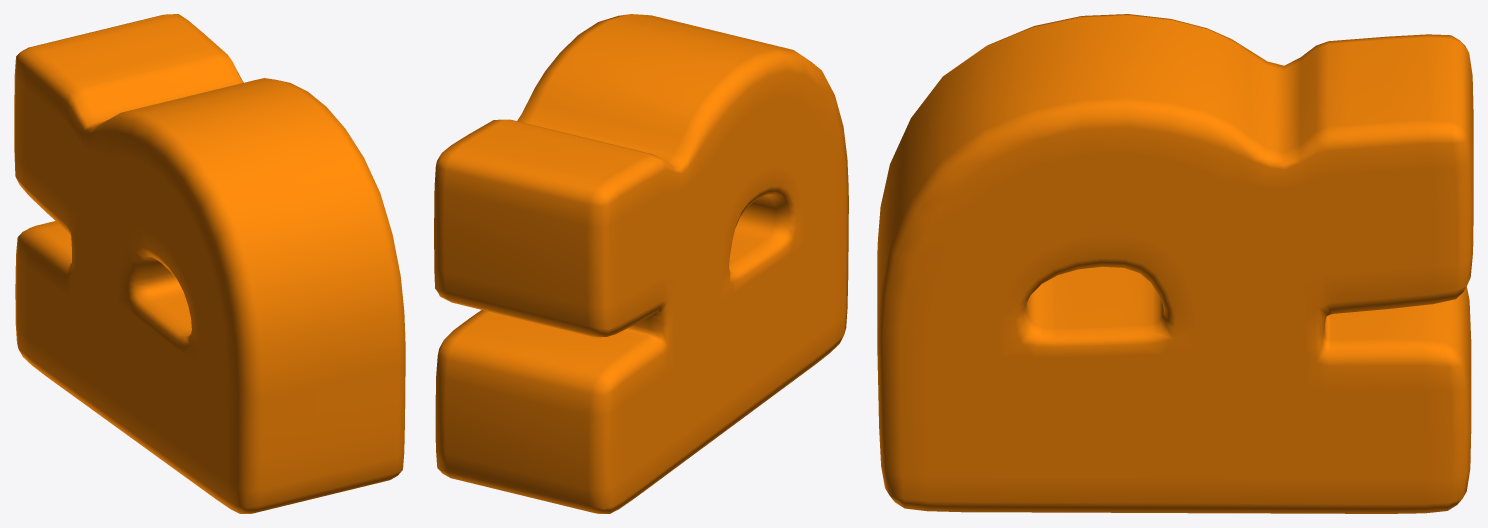
3 renders of one model, left to right at view 1: azimuth 30°, elevation 25°; view 2: azimuth 150°, elevation 25°; view 3: azimuth 270°, elevation 25°, orthographic. The views are drawn at different scales.
Visible parts, largest first — view 1: A:R_text_0; view 2: A:R_text_0; view 3: A:R_text_0.
Boxes of the visible parts, box(x1,y1,x2,y2) form: A:R_text_0: box(14, 14, 405, 513); A:R_text_0: box(434, 14, 848, 513); A:R_text_0: box(877, 14, 1473, 513).
Size of the model in its own units: 0.1354 by 0.2594 by 0.3392.
